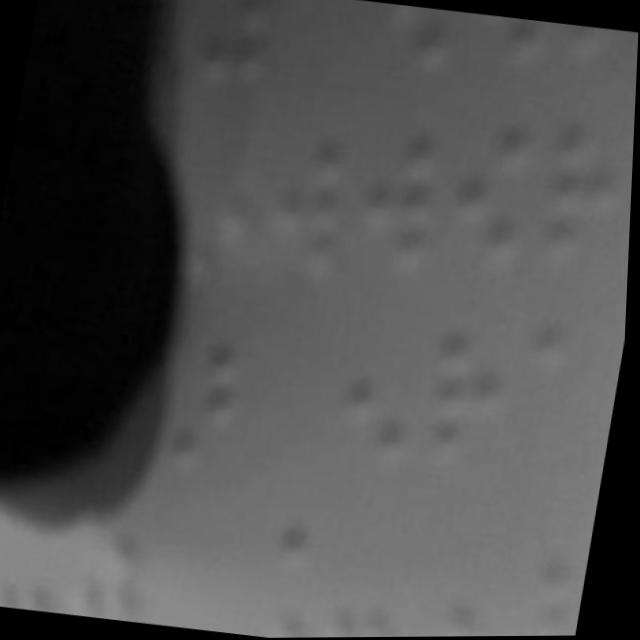braiile: (443, 121, 543, 286), (350, 125, 449, 290), (256, 132, 358, 291), (527, 126, 631, 277), (334, 320, 428, 469), (422, 329, 513, 474), (164, 335, 252, 484), (406, 507, 499, 638), (498, 506, 588, 637), (232, 518, 327, 639), (319, 530, 407, 638)
